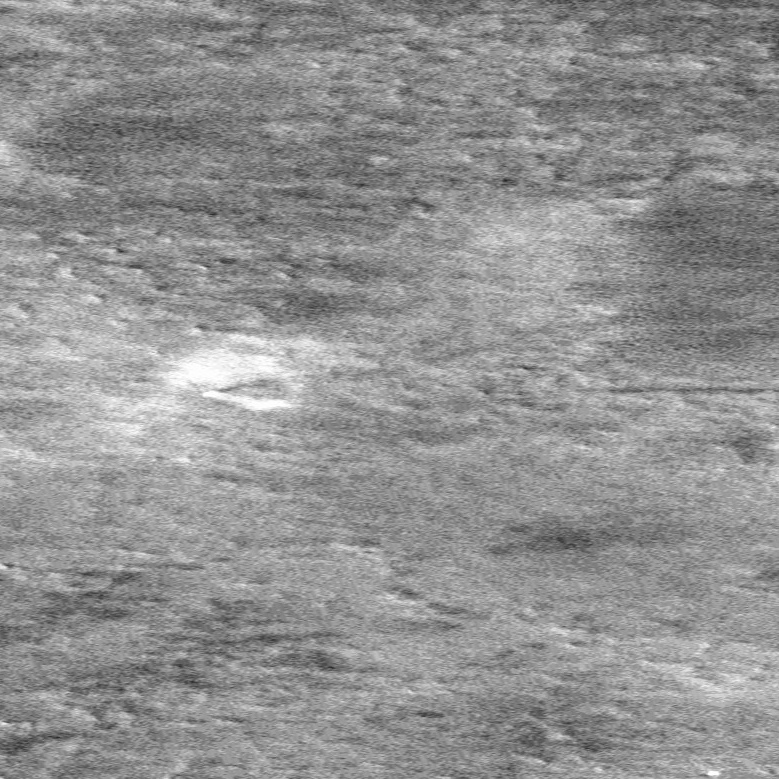dust_devil: (201, 378, 293, 414)
